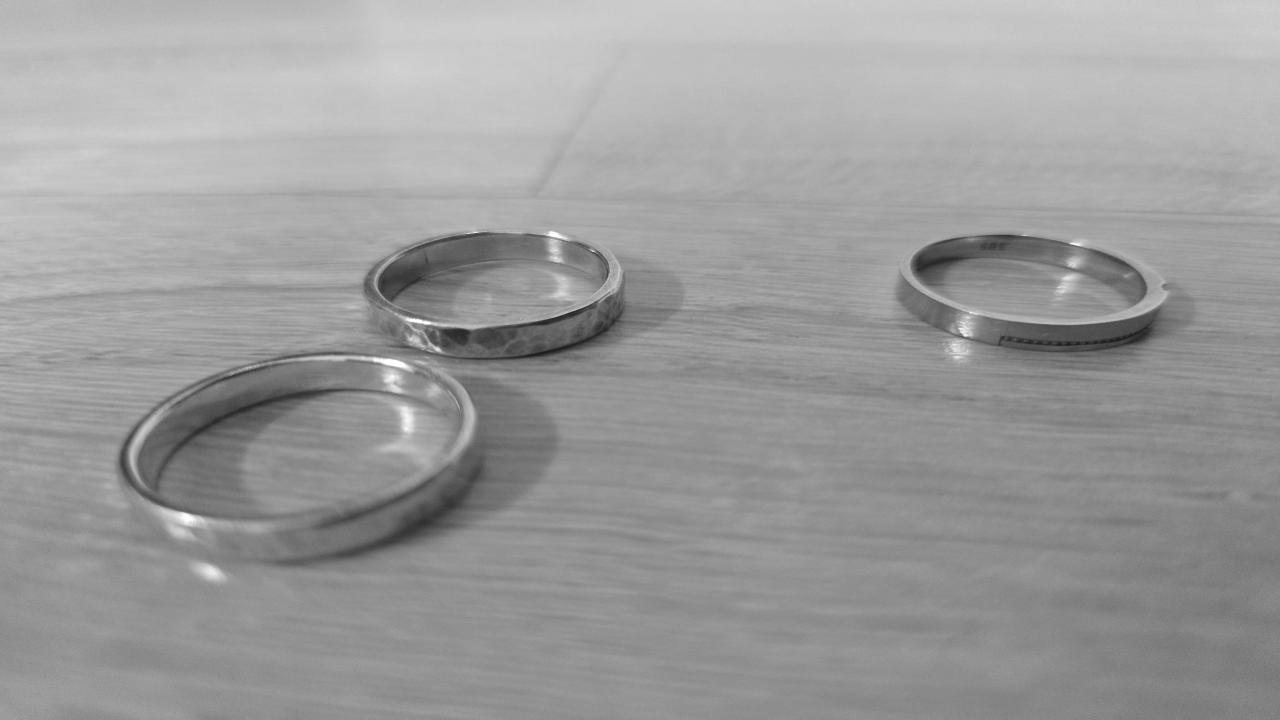ring: (113, 351, 482, 562), (360, 228, 623, 358), (898, 231, 1173, 350)
